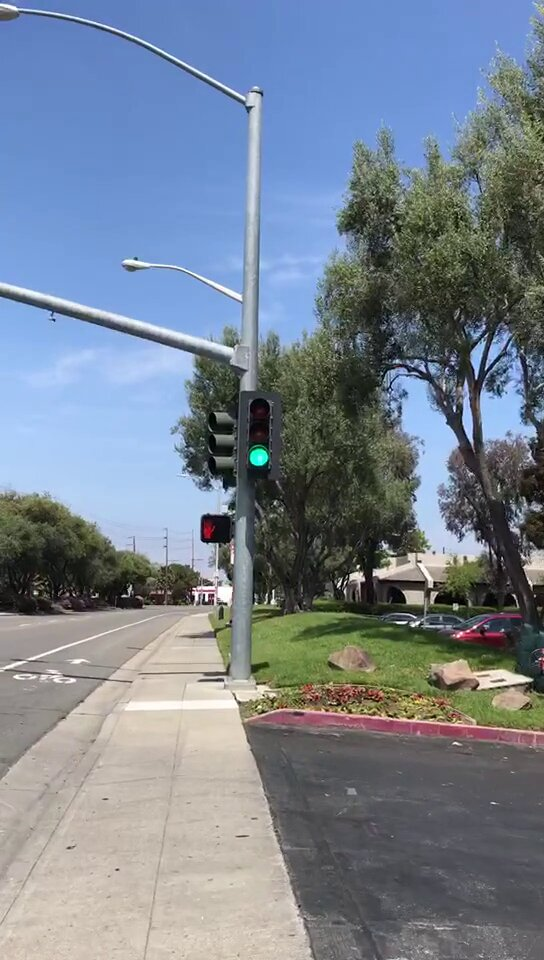green_light: (240, 395, 280, 480)
